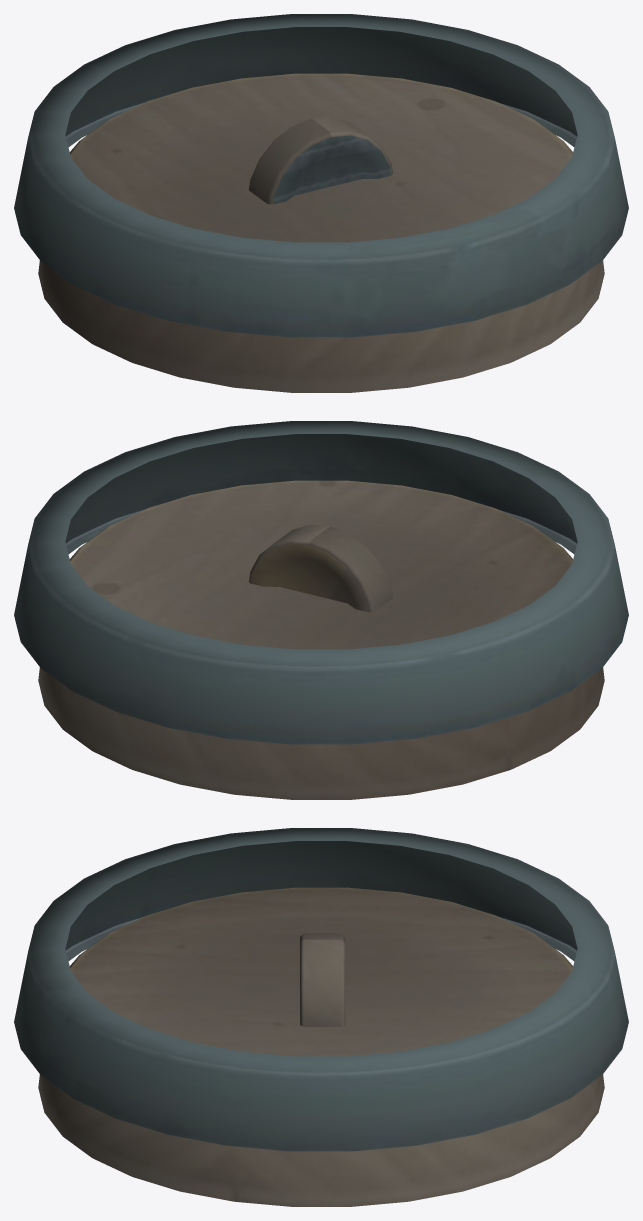
Rendered from neutral.glb.
The picture shows the model from 3 angles, top to bottom: view 1: azimuth 30°, elevation 25°; view 2: azimuth 150°, elevation 25°; view 3: azimuth 270°, elevation 25°; orthographic projection.
Parts seen in each view (by area): view 1: Pedestal_Neutral; view 2: Pedestal_Neutral; view 3: Pedestal_Neutral.
Boxes of the visible parts, x1=… form: Pedestal_Neutral: x1=14, y1=14, x2=628, y2=392; Pedestal_Neutral: x1=14, y1=421, x2=628, y2=799; Pedestal_Neutral: x1=14, y1=828, x2=628, y2=1206.
Size of the model in its own units: 2.83 by 0.7566 by 2.85.
Materials: 1 (1 with a texture image).
